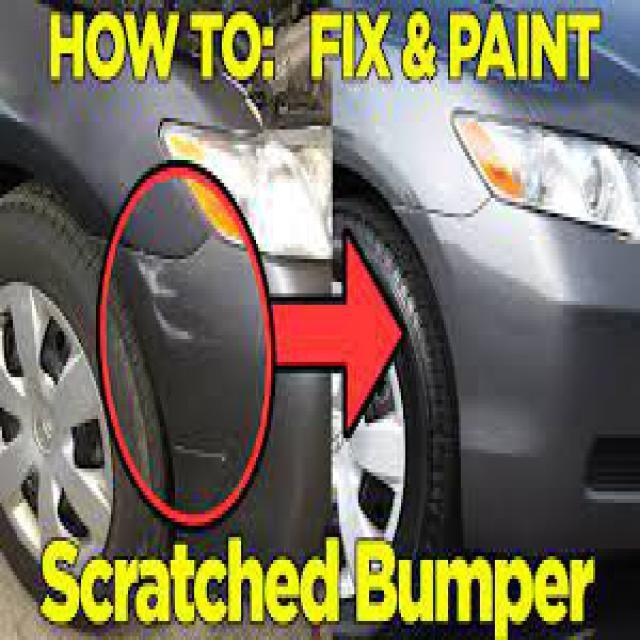front-bumper-dent: (53, 198, 337, 594)
